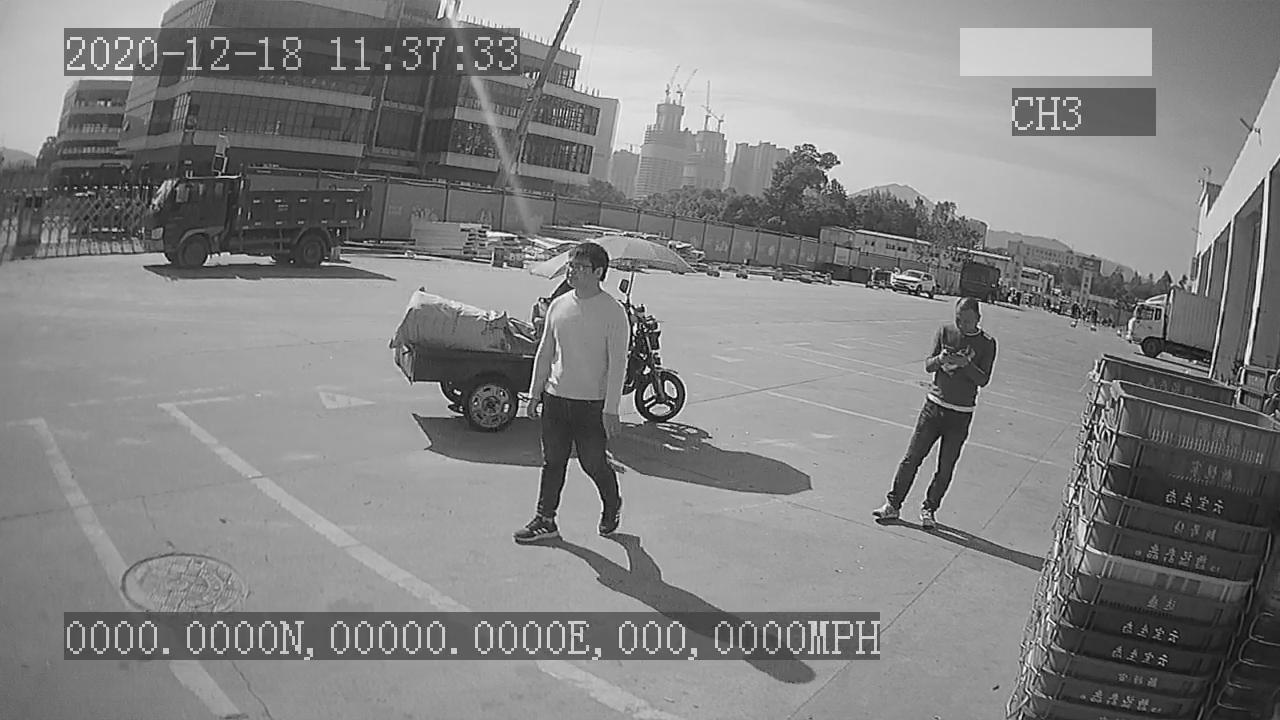person: (871, 292, 1000, 533)
